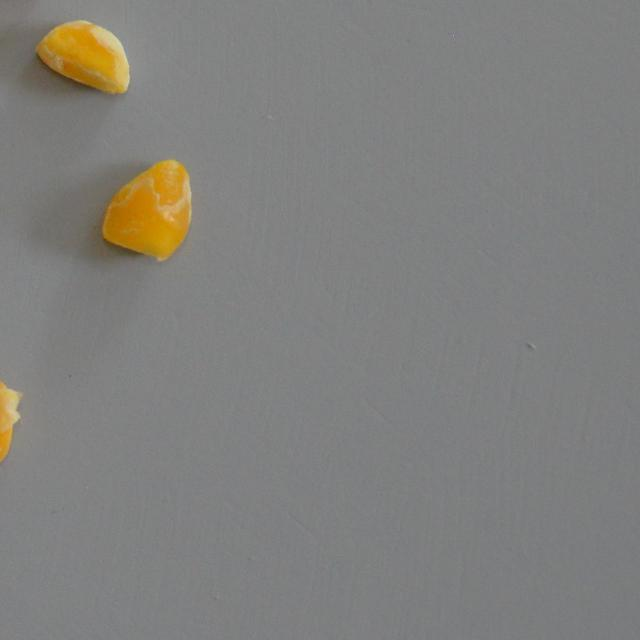pelicula: (102, 158, 197, 263), (32, 18, 132, 100), (0, 374, 22, 474)
